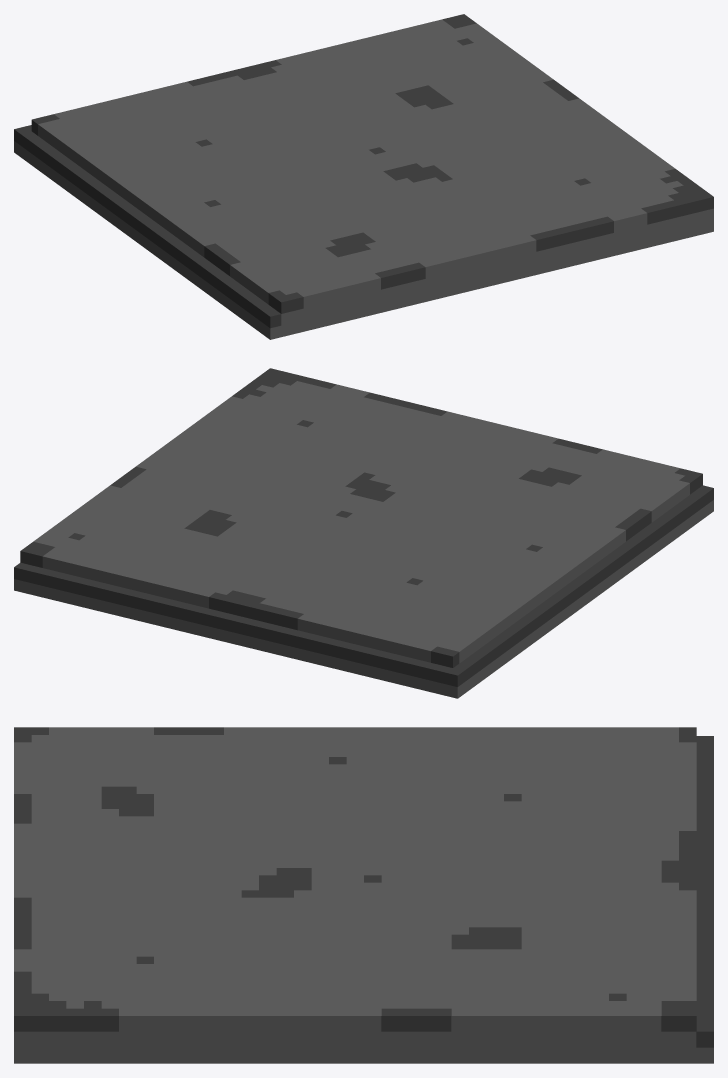
The model's file is Floor0.obj.
3 views of the same model, one above another, from view 1: azimuth 30°, elevation 25°; view 2: azimuth 150°, elevation 25°; view 3: azimuth 270°, elevation 25° (orthographic). The views are drawn at different scales.
Bounding box in the file's own units: 4 × 0.3 × 4.
1 material, 1 textured.
